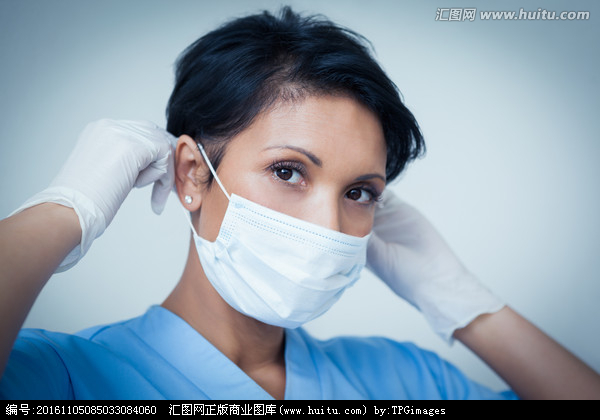mask: (194, 197, 367, 328)
